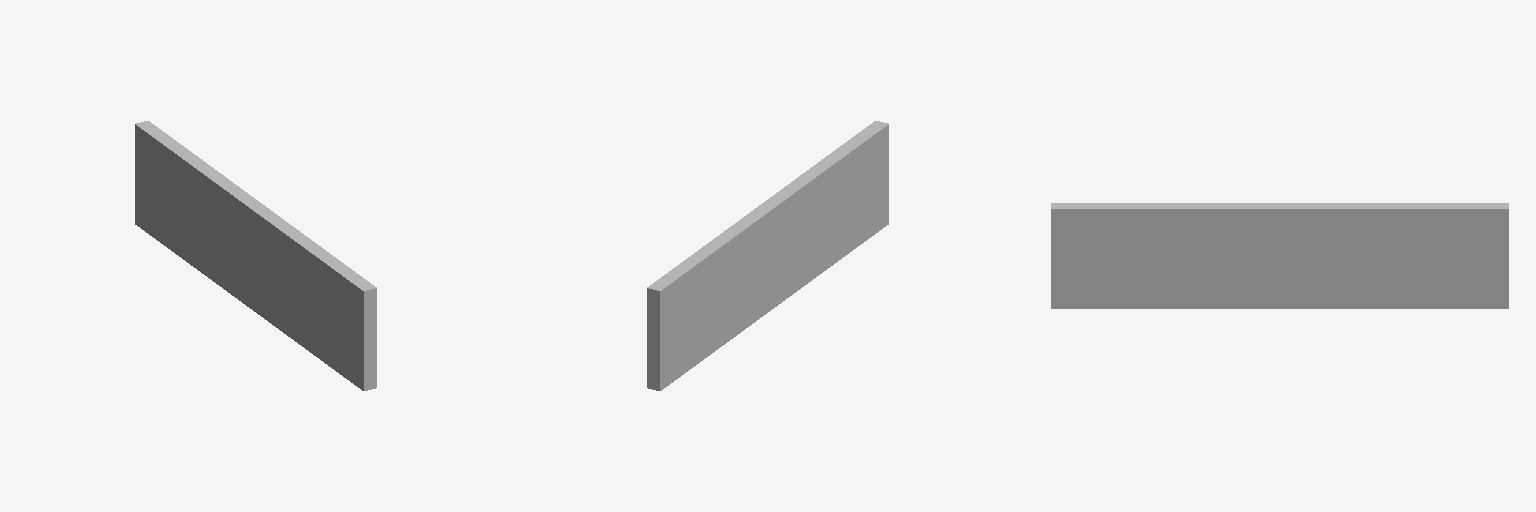
File: caution plate.obj
The picture shows the model from 3 angles: view 1: azimuth 30°, elevation 25°; view 2: azimuth 150°, elevation 25°; view 3: azimuth 270°, elevation 25°; orthographic projection.
Parts seen in each view (by area): view 1: object 1; view 2: object 1; view 3: object 1.
Boxes of the visible parts, x1=… form: object 1: x1=135, y1=121, x2=376, y2=390; object 1: x1=647, y1=121, x2=888, y2=390; object 1: x1=1051, y1=203, x2=1508, y2=308.
Bounding box in the file's own units: 0.1 × 0.7 × 2.9.